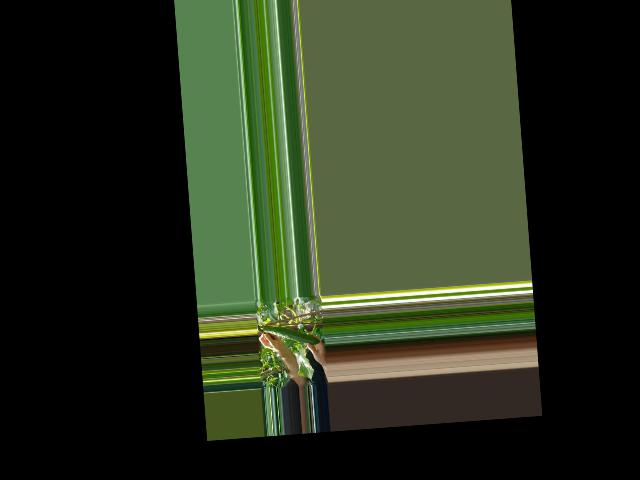cucumber: (263, 323, 319, 348)
